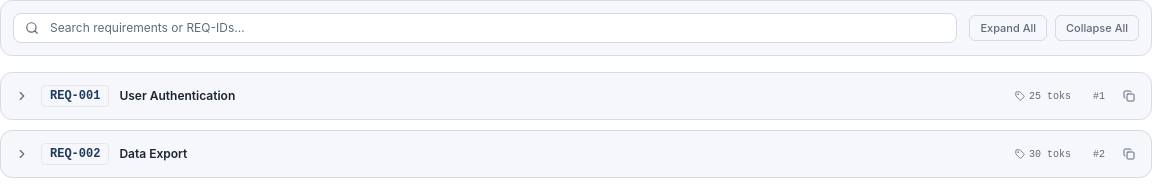
it: RequirementList › filters requirements by search input
This screenshot has width=1152, height=195.
Type "CSV" into the field with placeholder "Search requirements or REQ-IDs…" at [485, 28], box [13,13,957,43]
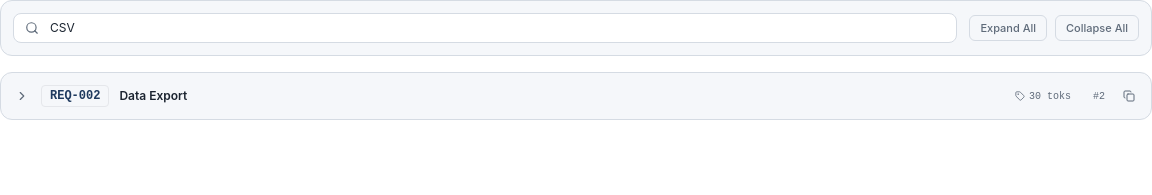
Check: the text "REQ-002" is shown, box [41,85,109,107]
Check: the text "REQ-001" is gone
